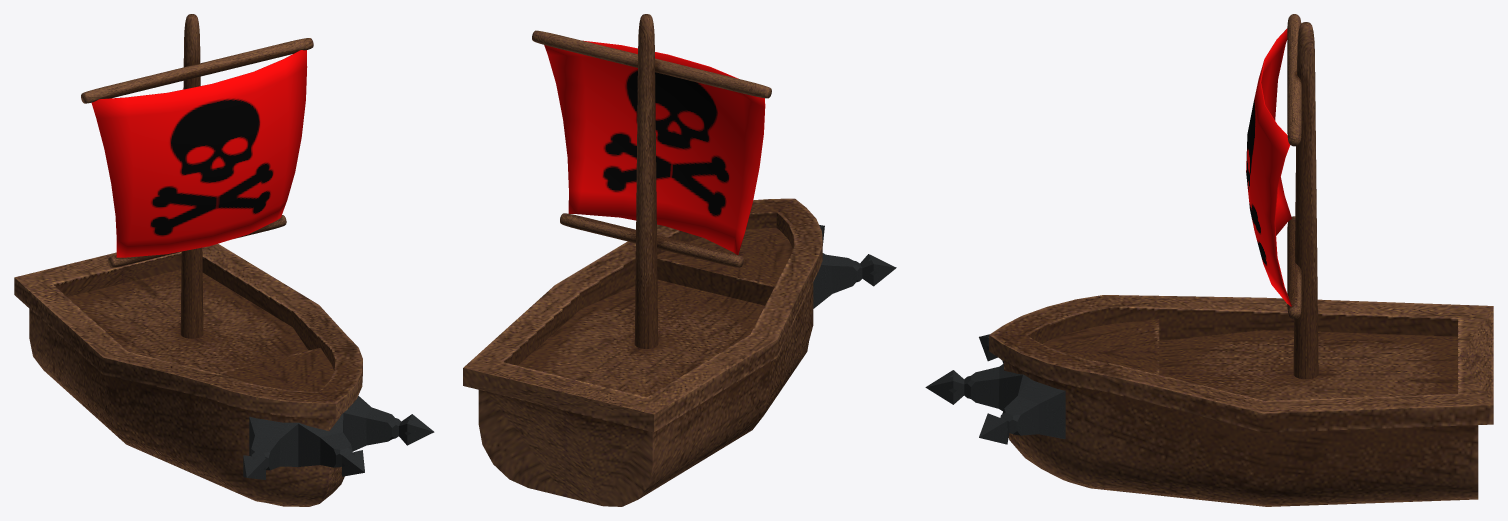
Rendered from Enemy_RammerShip_01.fbx.
3 views of the same model, side by side, from view 1: azimuth 30°, elevation 25°; view 2: azimuth 150°, elevation 25°; view 3: azimuth 270°, elevation 25° (orthographic). The views are drawn at different scales.
Parts seen in each view (by area): view 1: Enemy_RammerShip_01; view 2: Enemy_RammerShip_01; view 3: Enemy_RammerShip_01.
Part boxes in pixels (x1=…): Enemy_RammerShip_01: x1=14, y1=14, x2=434, y2=506; Enemy_RammerShip_01: x1=463, y1=14, x2=896, y2=506; Enemy_RammerShip_01: x1=925, y1=14, x2=1493, y2=506.
Bounding box in the file's own units: 539 × 926 × 1060.
